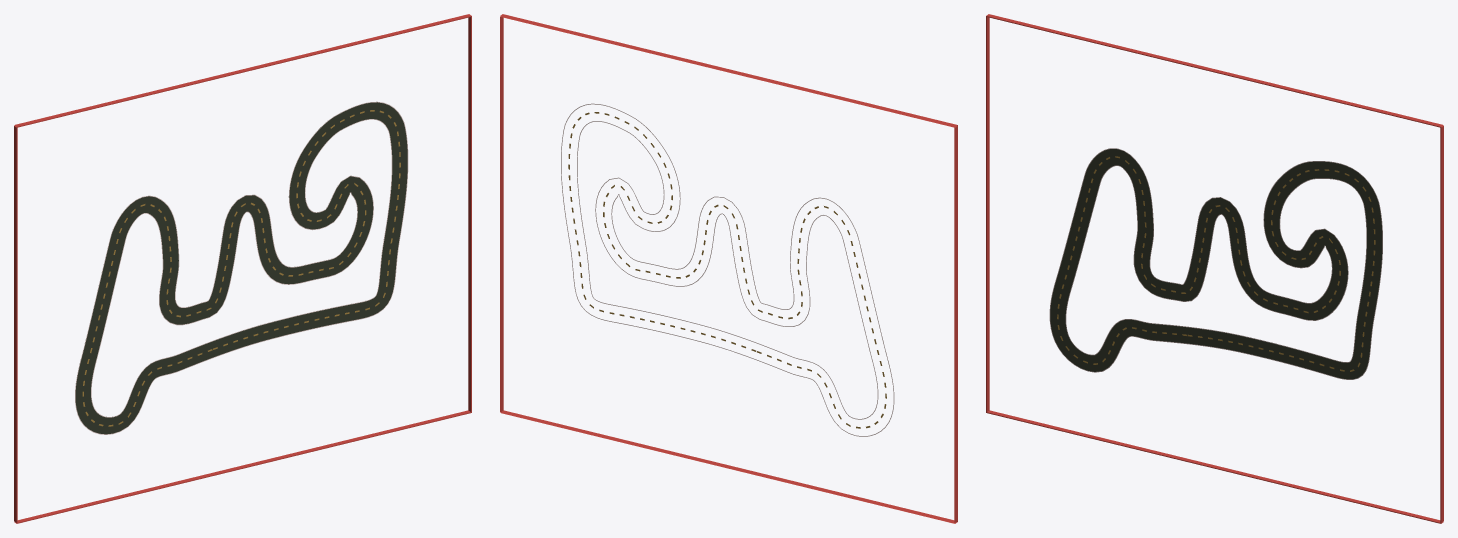
File: track.obj
3 renders of one model, left to right at view 1: azimuth 30°, elevation 25°; view 2: azimuth 150°, elevation 25°; view 3: azimuth 330°, elevation 25°, orthographic.
Bounding box in the file's own units: 29.13 × 24.27 × 0.3.
4 materials, 4 textured.
